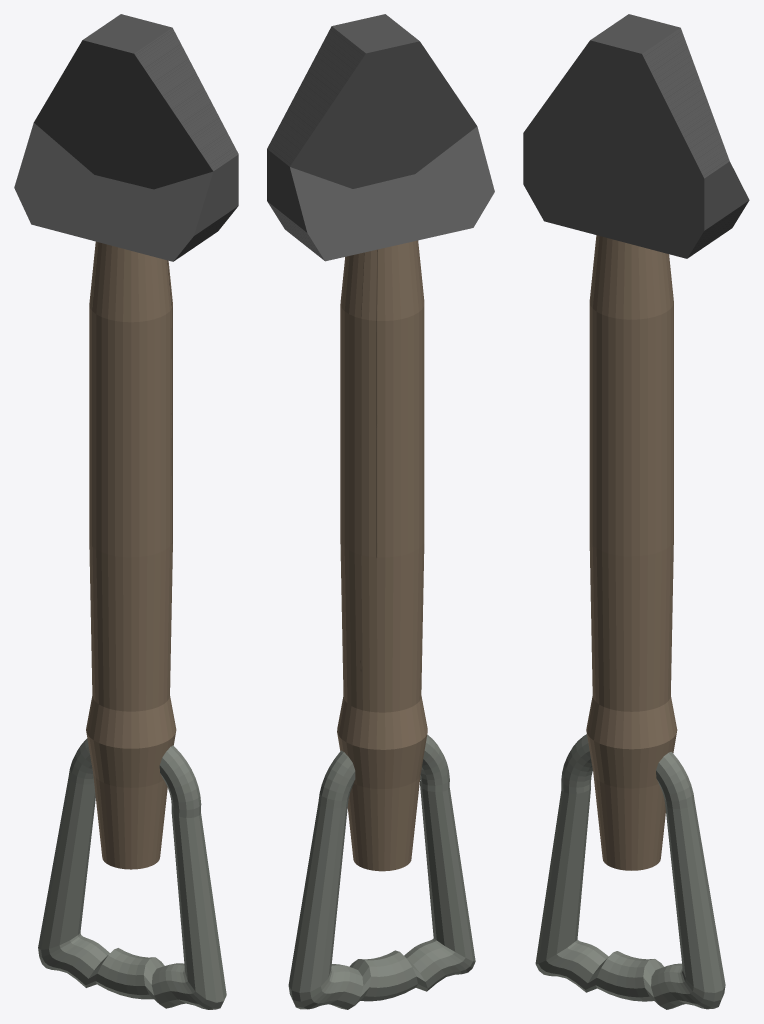
The model's file is schep.glb.
The picture shows the model from 3 angles, left to right: view 1: azimuth 90°, elevation 25°; view 2: azimuth 150°, elevation 25°; view 3: azimuth 270°, elevation 25°; orthographic projection.
Visible parts, largest first — view 1: Cylinder; view 2: Cylinder; view 3: Cylinder.
Part boxes in pixels (x1,y1,x2,y2): Cylinder: [14, 14, 238, 1009]; Cylinder: [267, 14, 494, 1009]; Cylinder: [523, 14, 749, 1009].
Bounding box in the file's own units: 4.39 × 25.34 × 5.36.
1 material, 1 textured.
